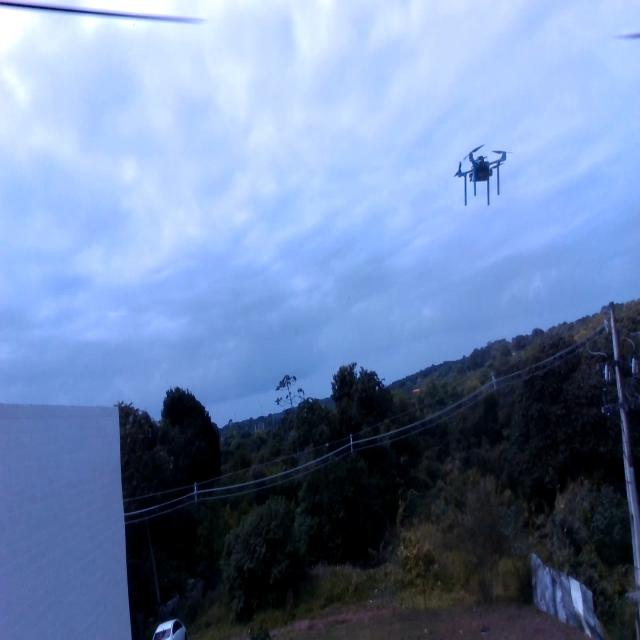-uav-: (451, 128, 511, 220)
